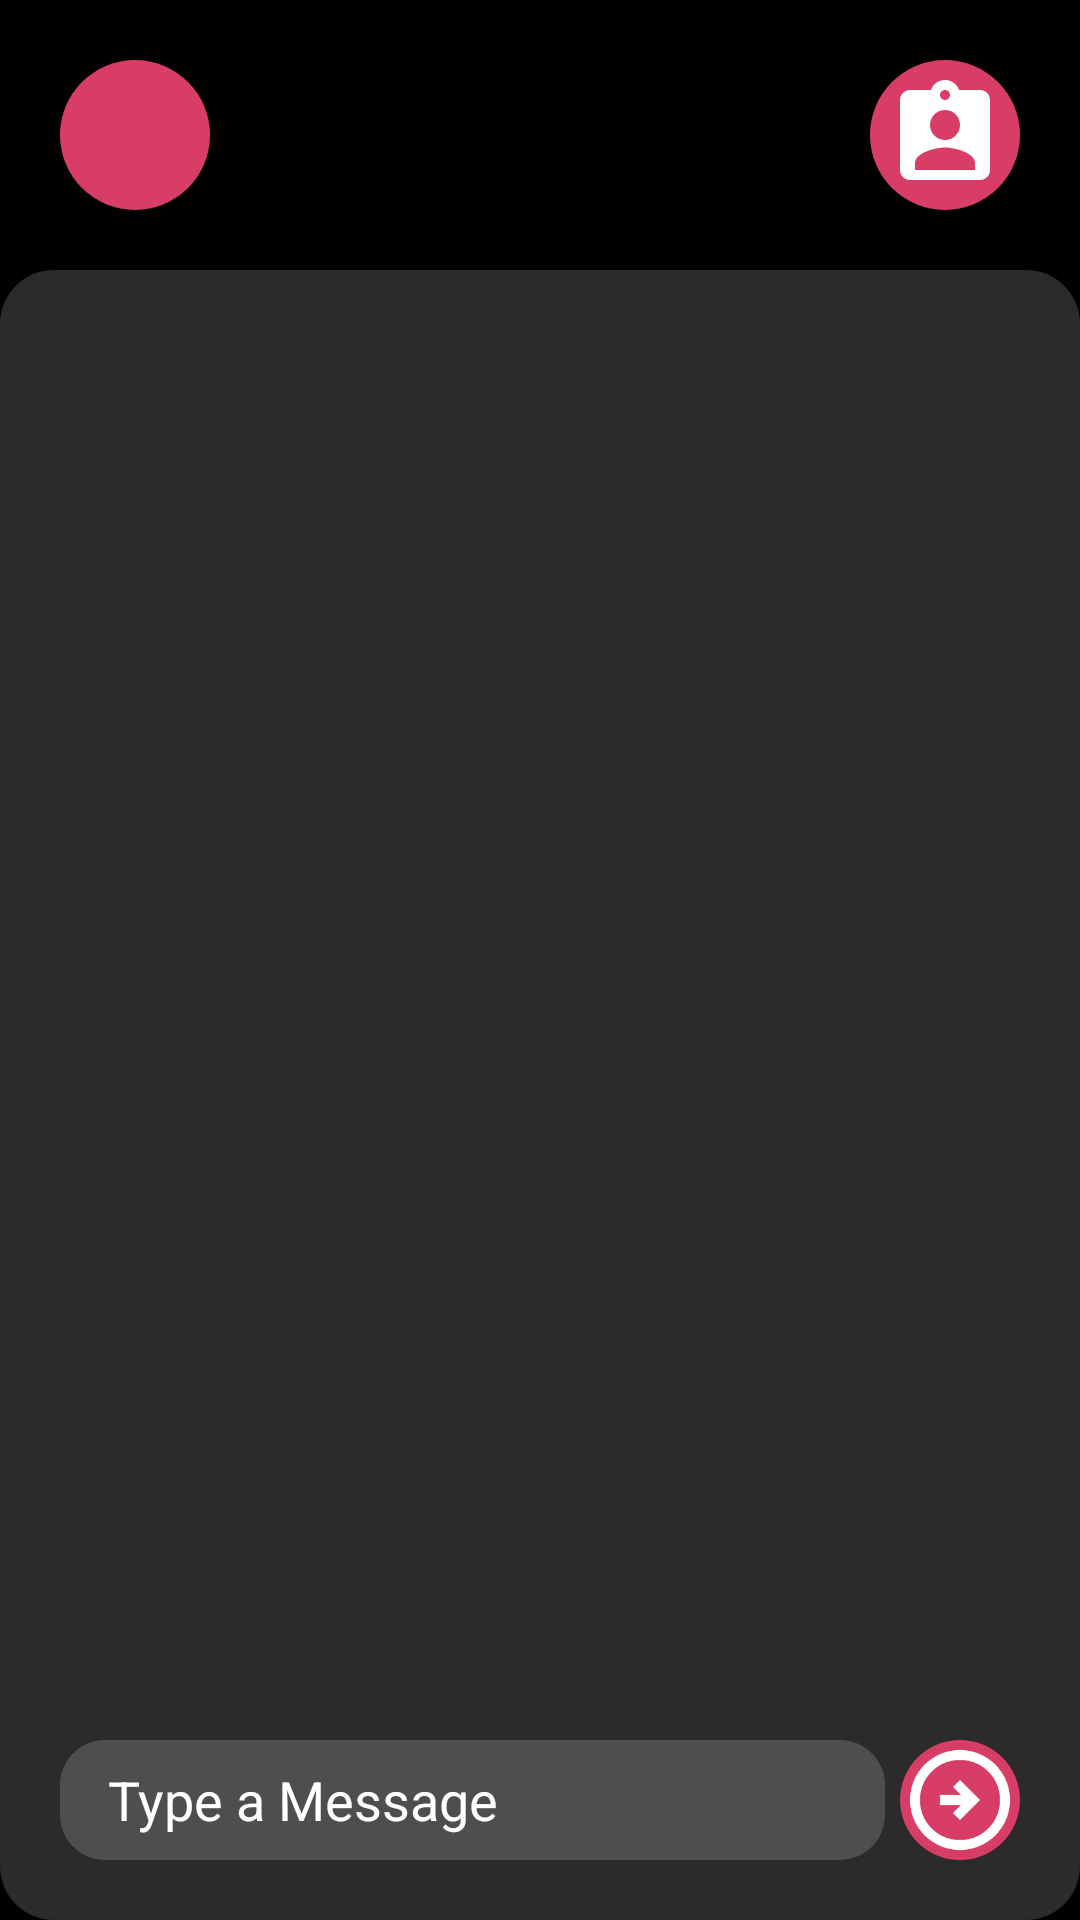

Icons on this 1080 x 1920 Android screen, each with the point to tap as [x,y]:
send message: [960,1800]
user information: [945,135]
